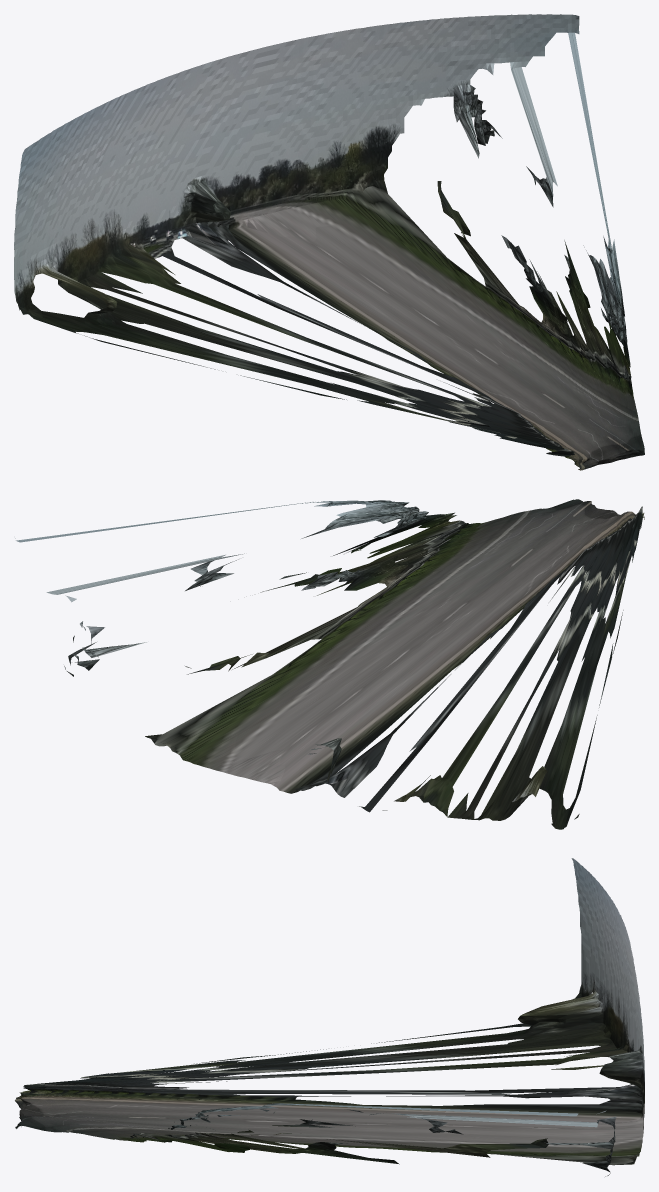
3 views of the same model, one above another, from view 1: azimuth 30°, elevation 25°; view 2: azimuth 150°, elevation 25°; view 3: azimuth 270°, elevation 25° (orthographic). The views are drawn at different scales.
Parts seen in each view (by area): view 1: defaultobject; view 2: defaultobject; view 3: defaultobject.
Part boxes in pixels (x1=…): defaultobject: x1=14, y1=14, x2=644, y2=470; defaultobject: x1=15, y1=499, x2=644, y2=829; defaultobject: x1=15, y1=858, x2=644, y2=1176.
Size of the model in its own units: 40.92 by 12.95 by 44.61.
Materials: 1 (1 with a texture image).
